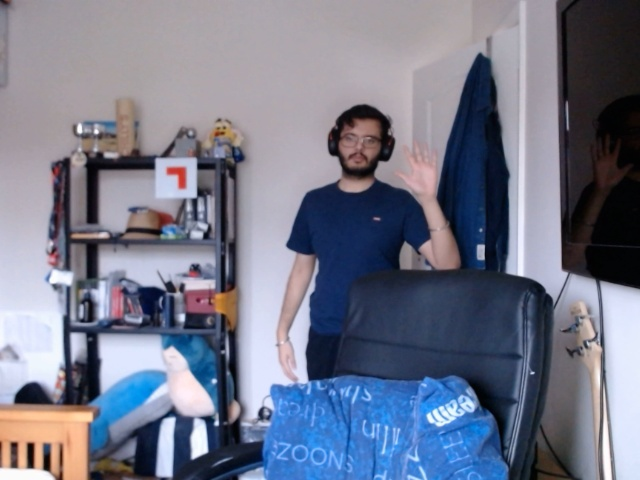Hello: (393, 138, 445, 194)
